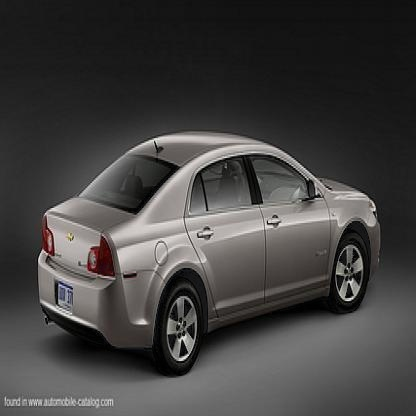Vehicle: (39, 135, 384, 378)
